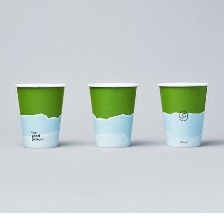paper_cup: (83, 77, 142, 151), (153, 77, 212, 151), (10, 79, 69, 151)
